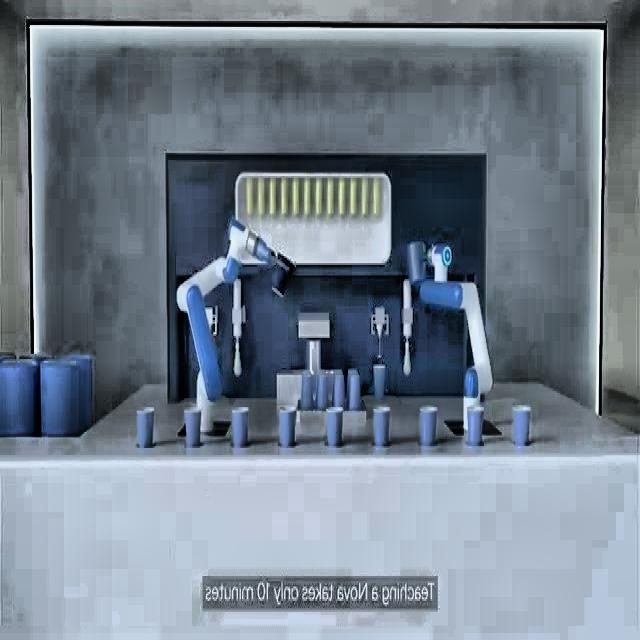robot: (176, 214, 296, 404), (402, 238, 495, 400)
